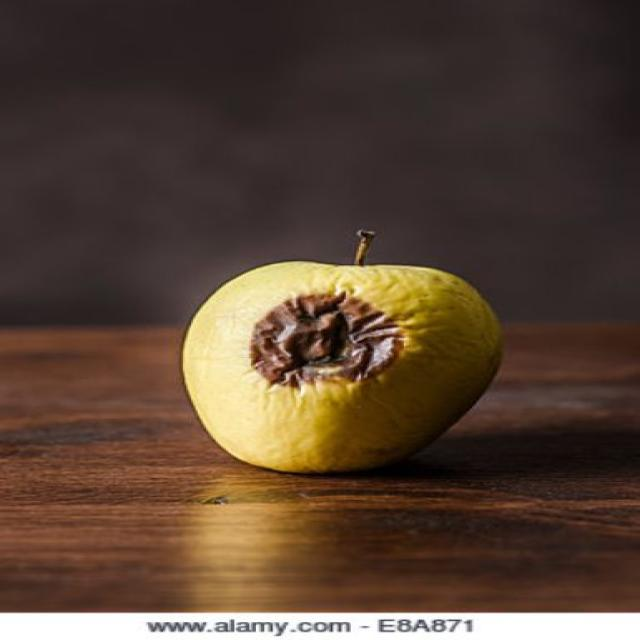Rotten Apple: (117, 225, 527, 482)
